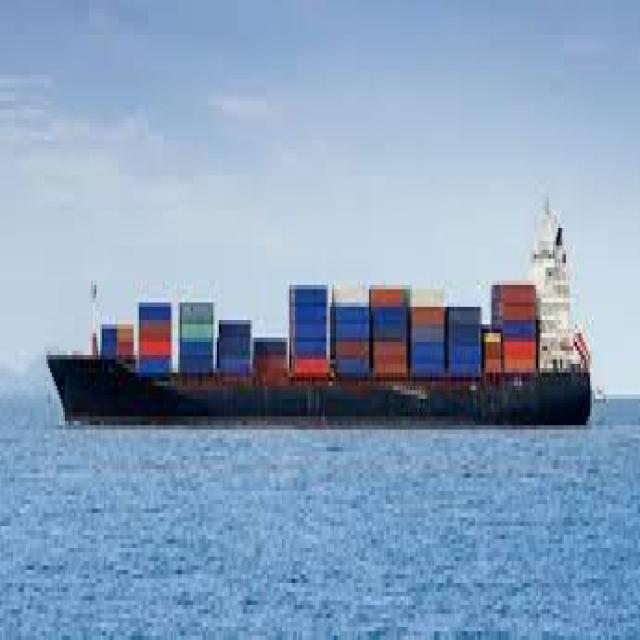cargoship: (42, 214, 594, 432)
